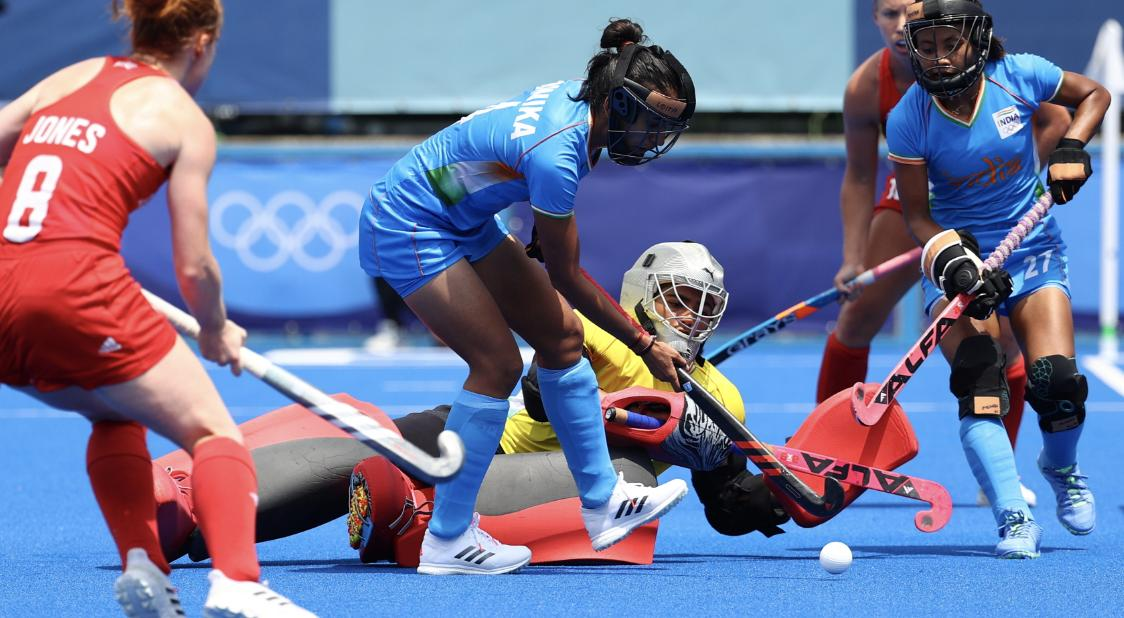ball: (815, 524, 863, 588)
